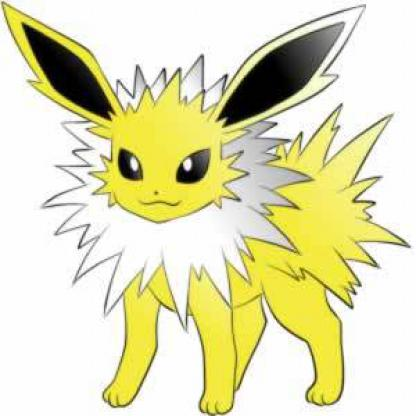Jolteon: (1, 1, 416, 416)
